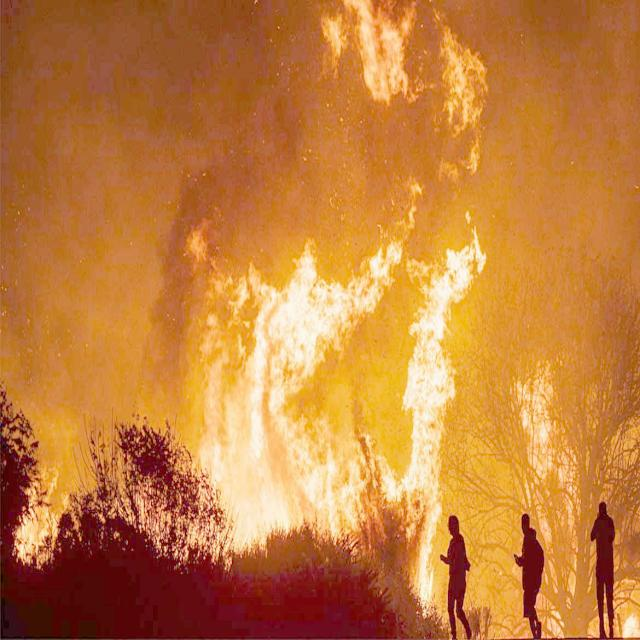api: (207, 252, 389, 542), (404, 234, 491, 483), (512, 374, 584, 506), (436, 29, 489, 179), (337, 1, 412, 100), (414, 498, 447, 614), (15, 497, 56, 560)
asap: (17, 43, 193, 432)
